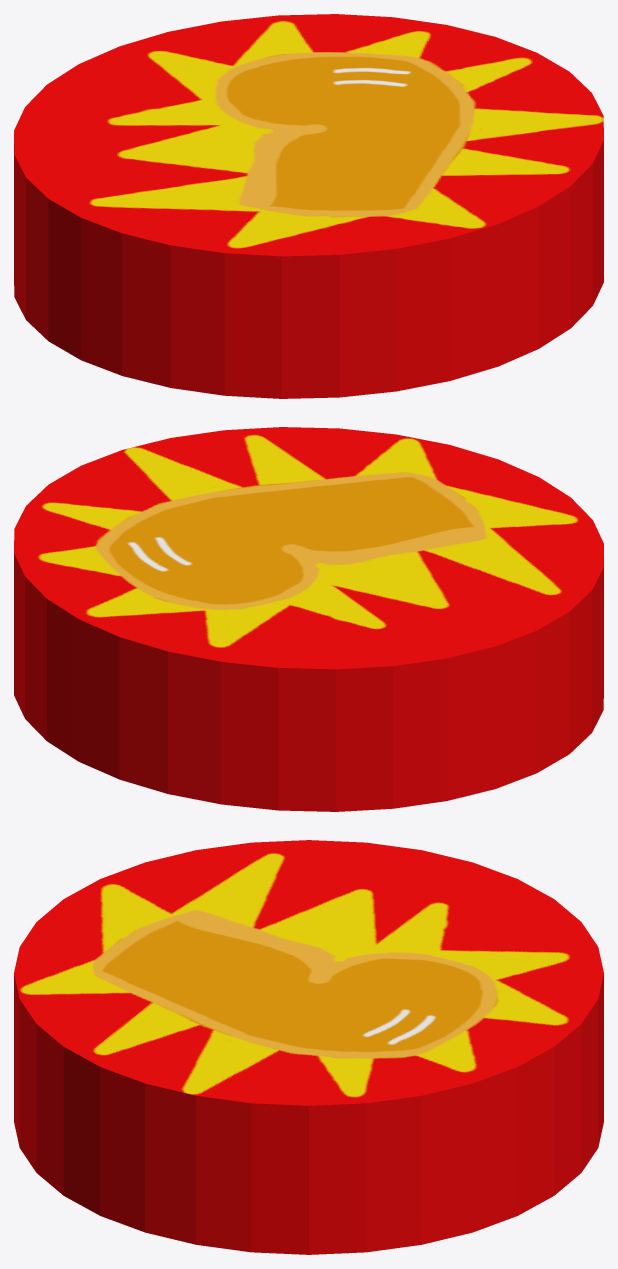
Rendered from 3D button round part.fbx.
3 views of the same model, one above another, from view 1: azimuth 30°, elevation 25°; view 2: azimuth 150°, elevation 25°; view 3: azimuth 270°, elevation 25° (orthographic). The views are drawn at different scales.
Parts seen in each view (by area): view 1: Cylinder.001; view 2: Cylinder.001; view 3: Cylinder.001.
Part boxes in pixels (x1,y1,x2,y2): Cylinder.001: [14, 14, 603, 398]; Cylinder.001: [14, 427, 603, 811]; Cylinder.001: [14, 840, 603, 1254].
Size of the model in its own units: 48.24 by 12.62 by 45.25.
